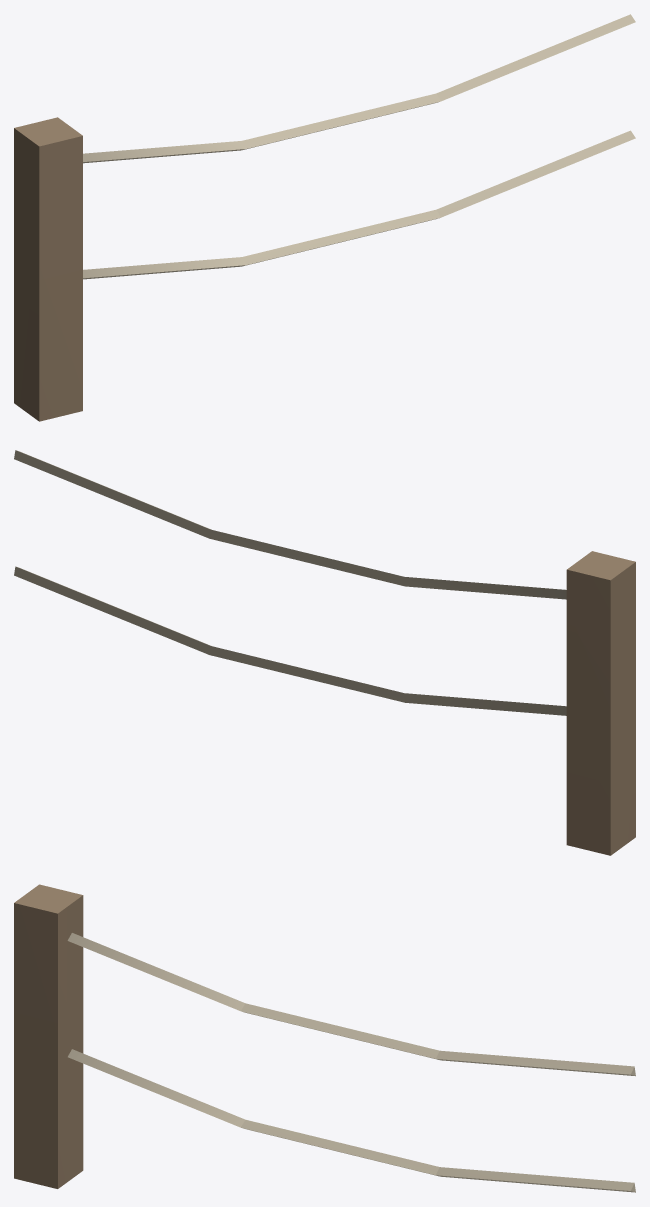
Rendered from rope_rail_low.glb.
3 renders of one model, top to bottom at view 1: azimuth 30°, elevation 25°; view 2: azimuth 150°, elevation 25°; view 3: azimuth 330°, elevation 25°, orthographic.
Bounding box in the file's own units: 2.08 × 0.9 × 0.15.
